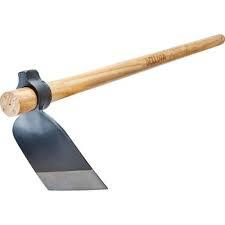HOUE: (0, 24, 225, 225)
